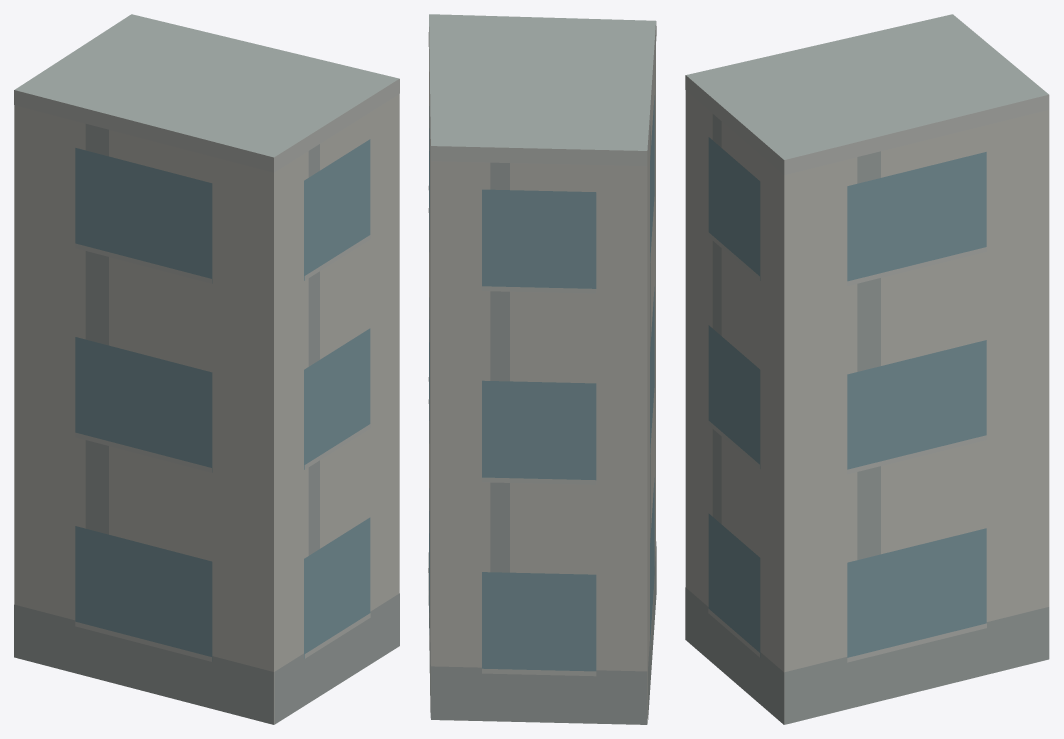
Rendered from survey-upis-32775087.glb.
The picture shows the model from 3 angles, left to right: view 1: azimuth 30°, elevation 25°; view 2: azimuth 150°, elevation 25°; view 3: azimuth 270°, elevation 25°; orthographic projection.
Visible parts, largest first — view 1: survey-upis-32775087.tmp; view 2: survey-upis-32775087.tmp; view 3: survey-upis-32775087.tmp.
Boxes of the visible parts, <box> form: survey-upis-32775087.tmp: <box>14,14,399,724</box>; survey-upis-32775087.tmp: <box>428,14,656,724</box>; survey-upis-32775087.tmp: <box>685,14,1049,724</box>.
Bounding box in the file's own units: 5.09 × 9.15 × 5.35.
